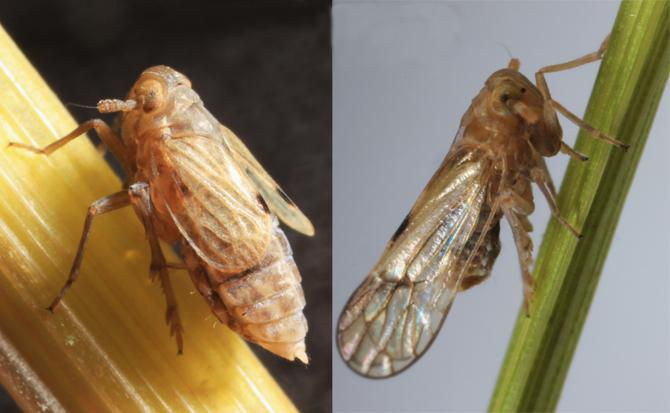Delphacidae: (336, 31, 632, 381), (4, 64, 318, 368)
